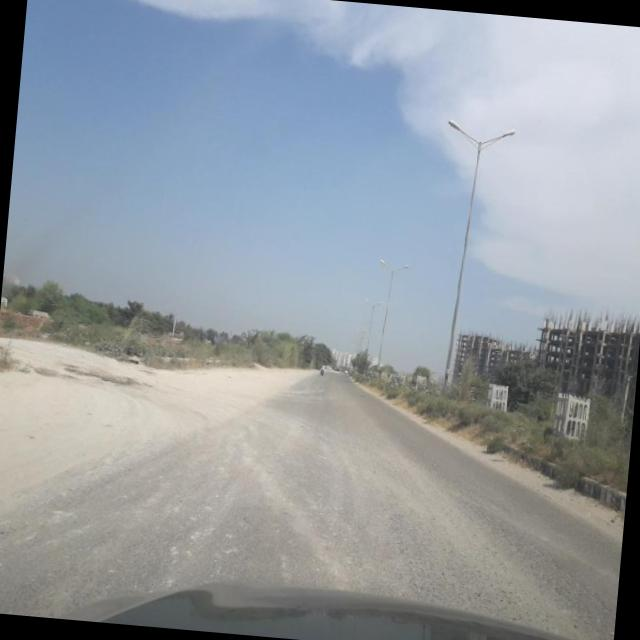crack: (365, 458, 618, 620)
